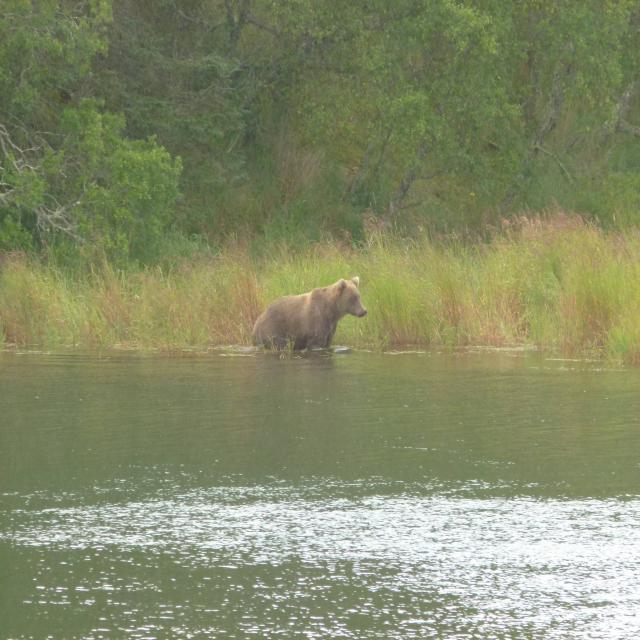bear face: (254, 277, 367, 347)
